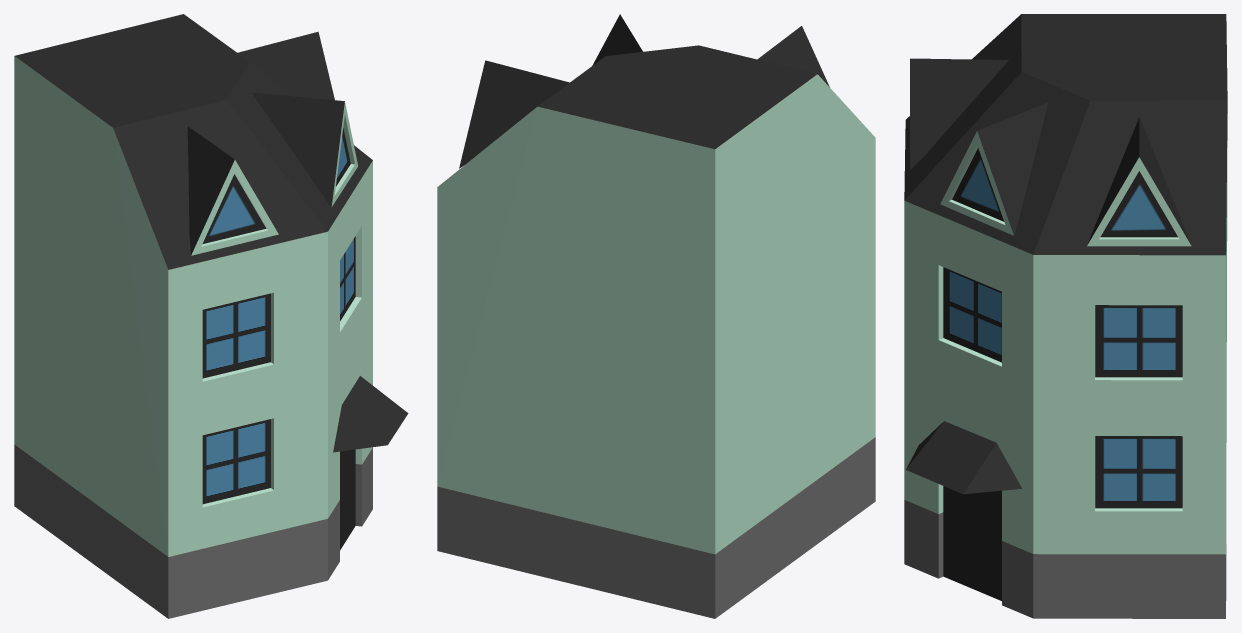
Rendered from CornerTriangleMint.obj.
3 renders of one model, left to right at view 1: azimuth 30°, elevation 25°; view 2: azimuth 150°, elevation 25°; view 3: azimuth 270°, elevation 25°, orthographic. The views are drawn at different scales.
Visible parts, largest first — view 1: naroznikTrojkatMieta; view 2: naroznikTrojkatMieta; view 3: naroznikTrojkatMieta.
Part boxes in pixels (bbox=[...]): naroznikTrojkatMieta: bbox=[14, 14, 408, 618]; naroznikTrojkatMieta: bbox=[437, 14, 875, 618]; naroznikTrojkatMieta: bbox=[904, 14, 1227, 618].
Bounding box in the file's own units: 5.02 × 8.07 × 5.03.
